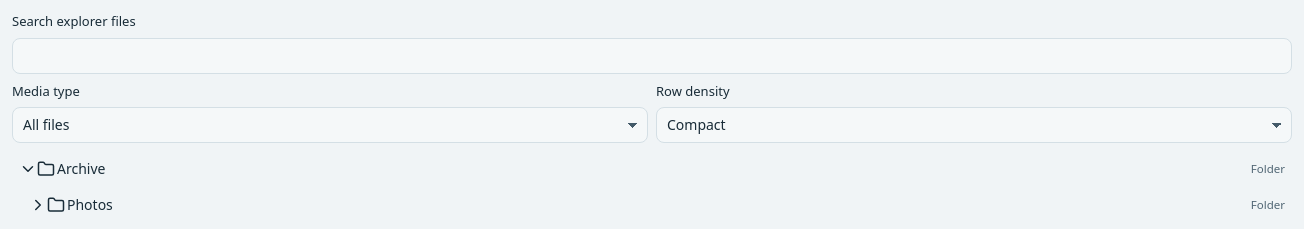
Test: shows an empty filter result without selecting a folder
Select "Videos" in the dropdown labelled "Media type". click: (330, 125)
box: [12,107,648,143]
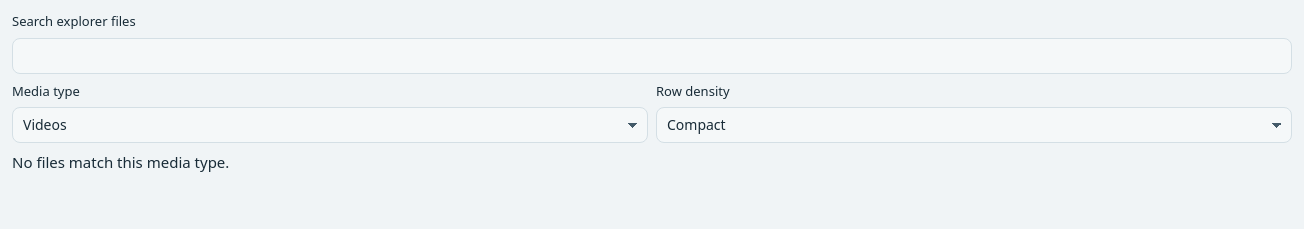
Expected: the text "No files match this media type." is shown, [12,152,229,172]
